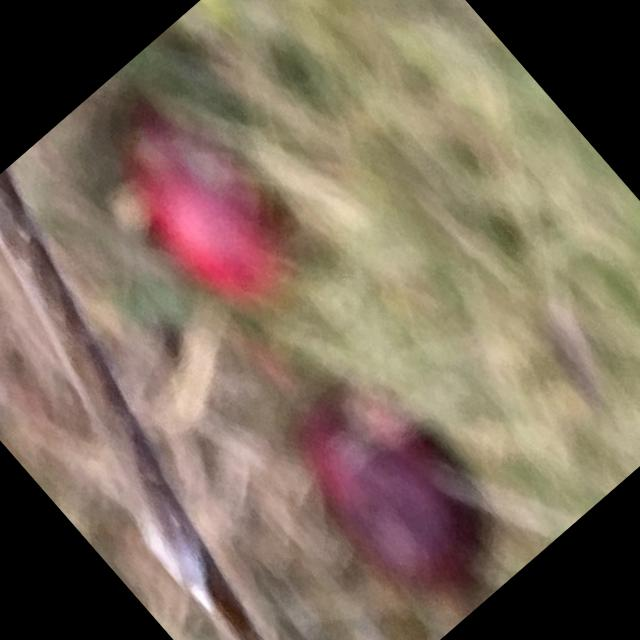Apples: (272, 361, 512, 610), (97, 98, 315, 324)
